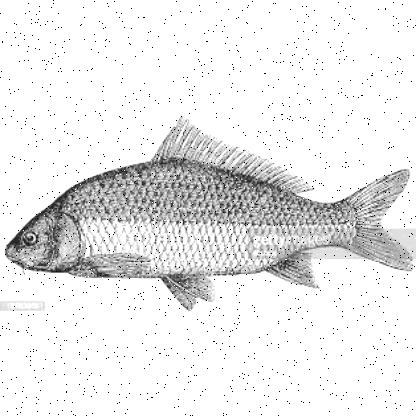ikan-mas: (5, 136, 409, 291)
